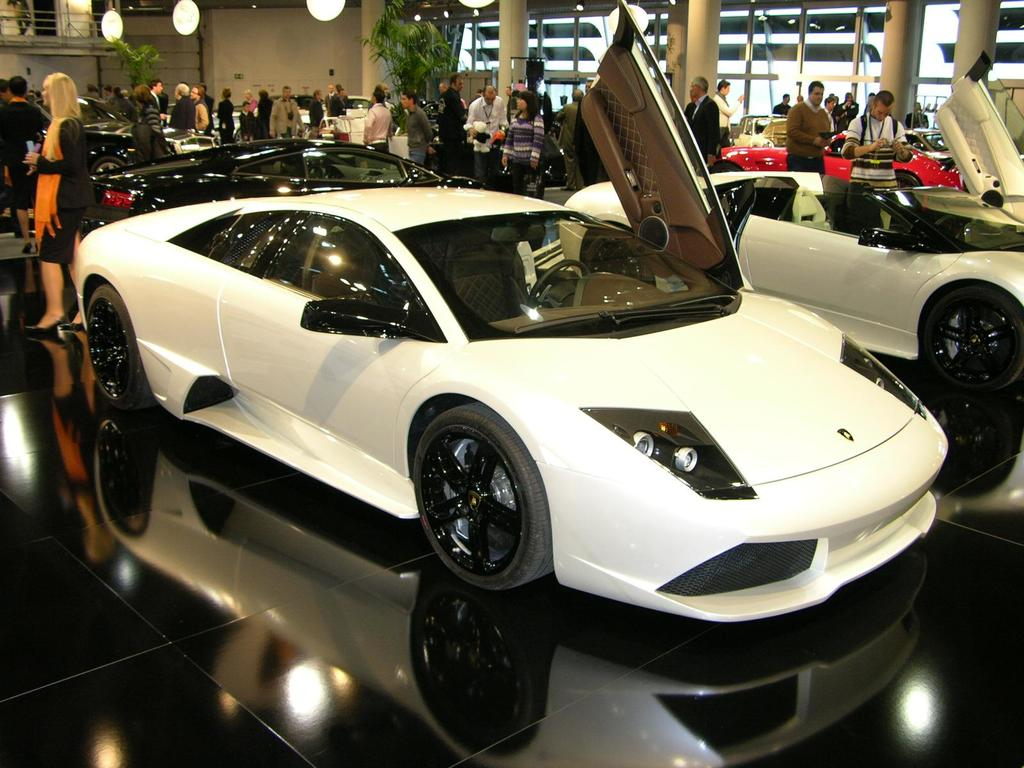cars: (75, 0, 947, 623), (565, 0, 1023, 390), (79, 137, 546, 233), (722, 132, 966, 189)
